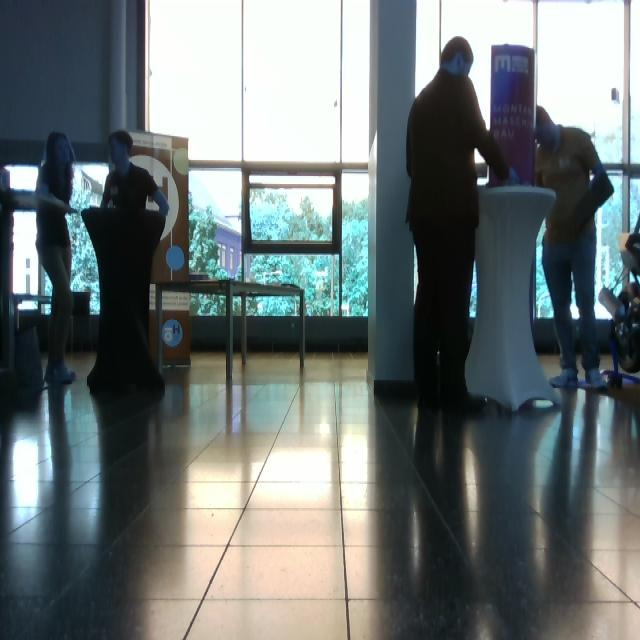light bulb: (166, 245, 185, 272), (173, 146, 190, 176), (611, 88, 621, 105)
person: (405, 36, 517, 413), (534, 105, 615, 390), (86, 130, 170, 396), (35, 132, 79, 386)
pillar: (465, 184, 562, 413), (367, 1, 417, 394)
tiled floor: (2, 347, 639, 639)
window: (145, 1, 373, 321)
